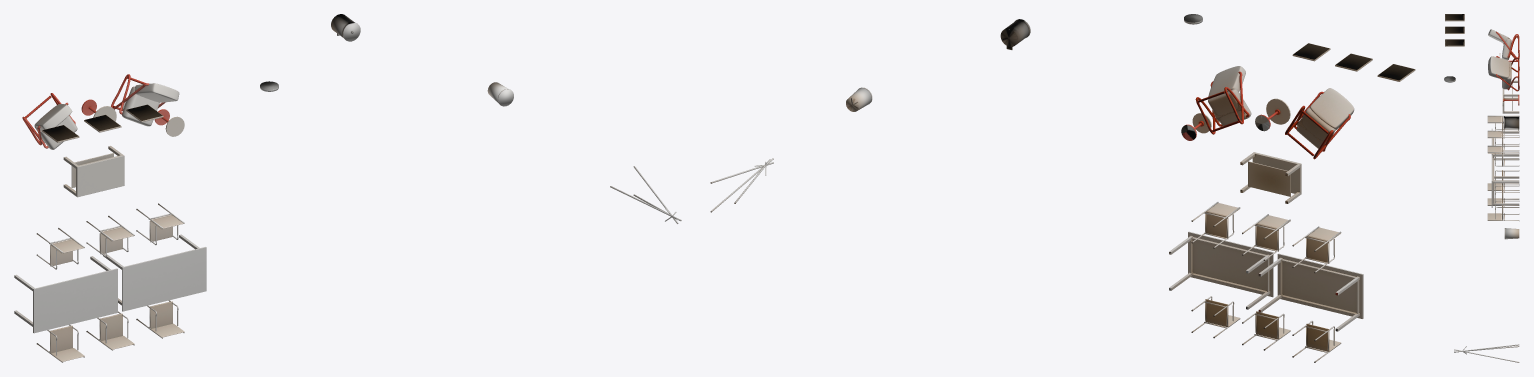
Rendered from office_mid.obj.
The picture shows the model from 3 angles, left to right: view 1: azimuth 30°, elevation 25°; view 2: azimuth 150°, elevation 25°; view 3: azimuth 270°, elevation 25°; orthographic projection. The views are drawn at different scales.
Visible parts, largest first — view 1: BAKE_mid; view 2: BAKE_mid; view 3: BAKE_mid.
Part boxes in pixels (x1=…): BAKE_mid: x1=14, y1=14, x2=681, y2=362; BAKE_mid: x1=710, y1=14, x2=1415, y2=362; BAKE_mid: x1=1444, y1=14, x2=1519, y2=362.
Bounding box in the file's own units: 12.14 × 4.68 × 2.02.
1 material, 1 textured.
